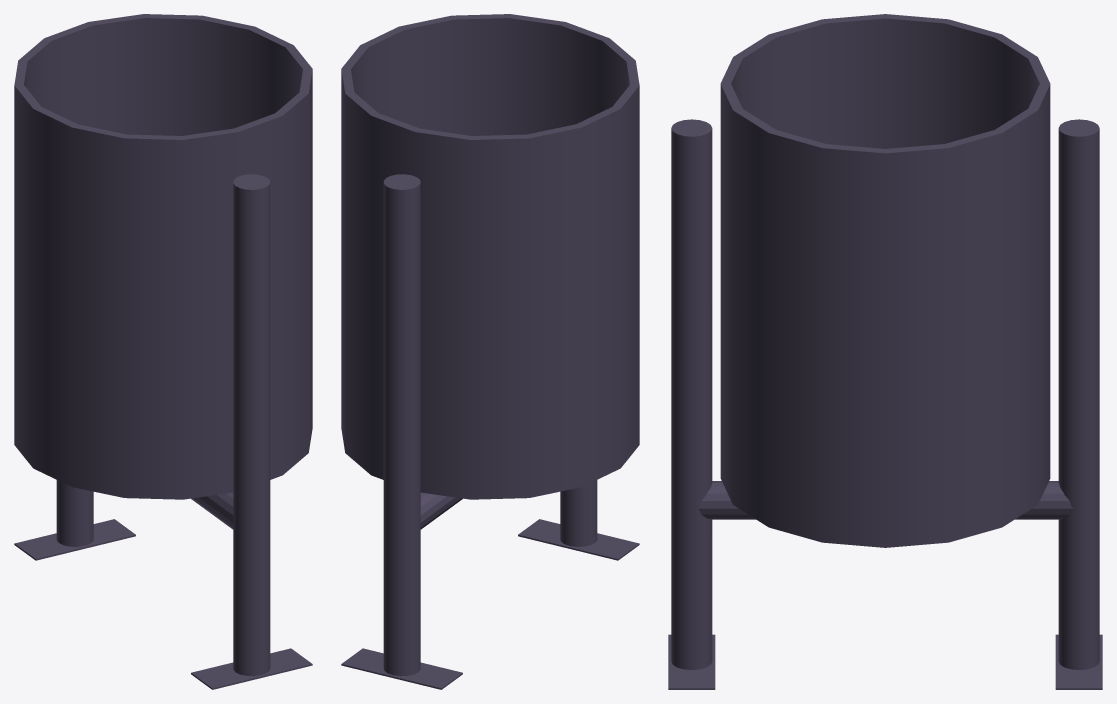
Rendered from basura.fbx.
The picture shows the model from 3 angles, left to right: view 1: azimuth 30°, elevation 25°; view 2: azimuth 150°, elevation 25°; view 3: azimuth 270°, elevation 25°; orthographic projection. The views are drawn at different scales.
Parts seen in each view (by area): view 1: PublicBuilding_Bin; view 2: PublicBuilding_Bin; view 3: PublicBuilding_Bin.
Boxes of the visible parts, x1,y1,x2,y2 form: PublicBuilding_Bin: (14, 14, 312, 689); PublicBuilding_Bin: (341, 14, 639, 689); PublicBuilding_Bin: (668, 14, 1102, 689).
Size of the model in its own units: 9.65 by 18.7 by 12.7.
